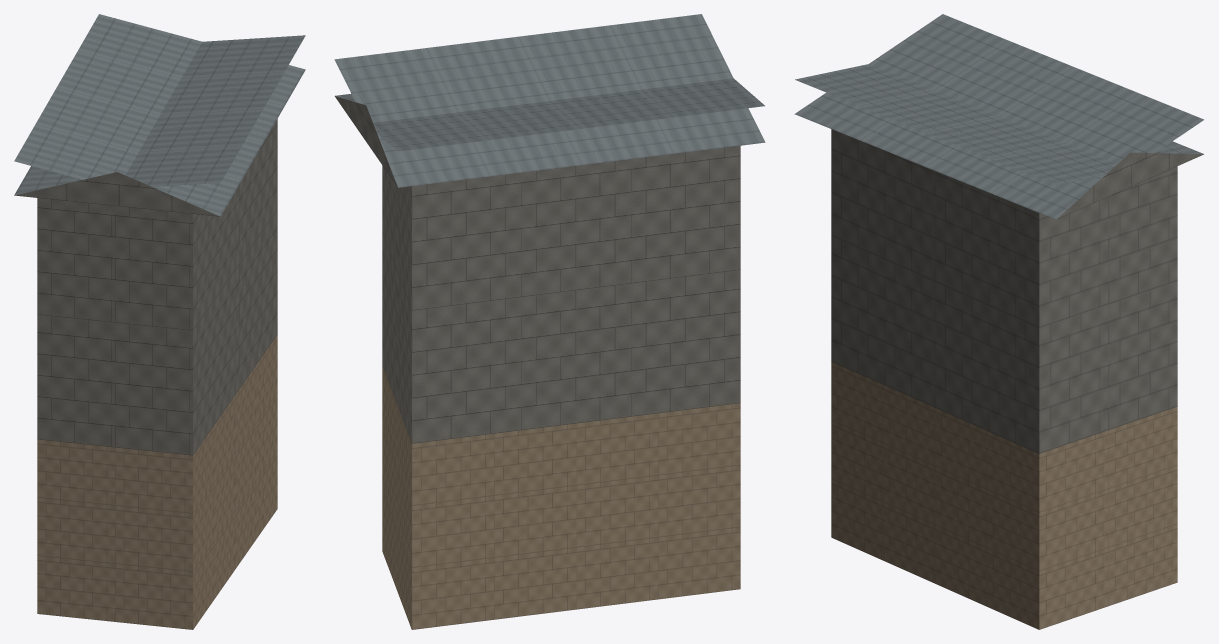
Rendered from bld_c-10_41_520.gltf.
3 renders of one model, left to right at view 1: azimuth 30°, elevation 25°; view 2: azimuth 150°, elevation 25°; view 3: azimuth 270°, elevation 25°, orthographic. The views are drawn at different scales.
Parts seen in each view (by area): view 1: bld_c-10_41_520; view 2: bld_c-10_41_520; view 3: bld_c-10_41_520.
Part boxes in pixels (box(x1,y1,x2,y2)): bld_c-10_41_520: box(14, 14, 305, 629); bld_c-10_41_520: box(334, 14, 765, 629); bld_c-10_41_520: box(794, 14, 1203, 629).
Size of the model in its own units: 10.64 by 13.4 by 10.77.
4 materials, 4 textured.
